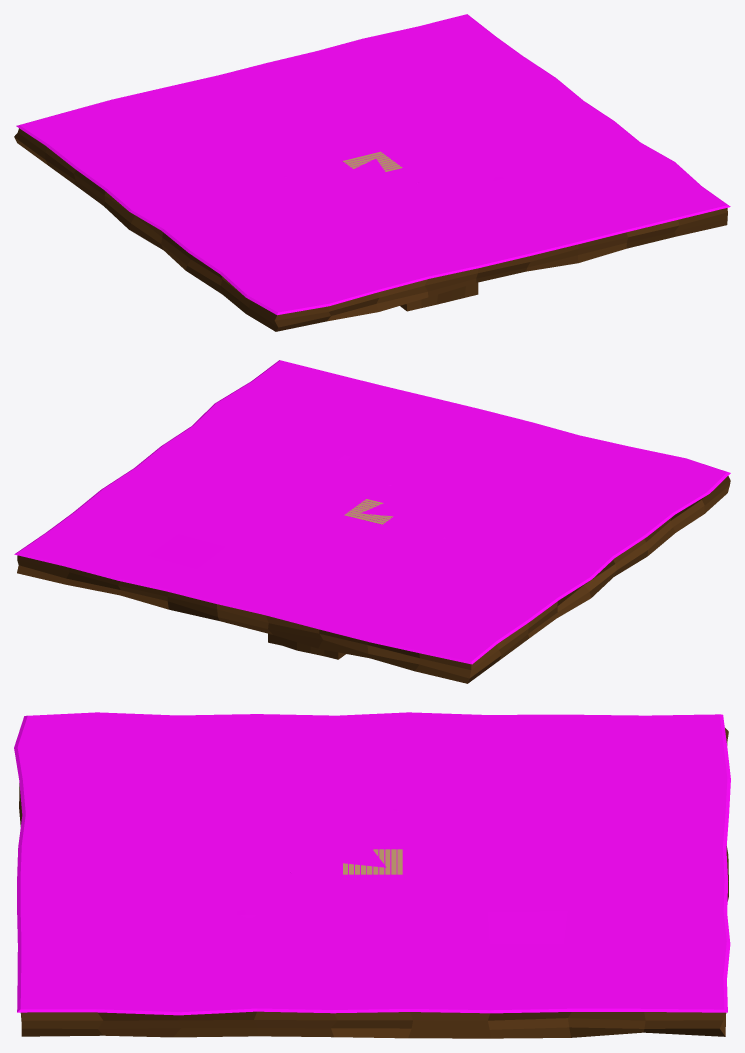
File: Platforms.fbx
3 renders of one model, top to bottom at view 1: azimuth 30°, elevation 25°; view 2: azimuth 150°, elevation 25°; view 3: azimuth 270°, elevation 25°, orthographic. The views are drawn at different scales.
Visible parts, largest first — view 1: Grass_Platform_XXL, Grass_Halfpipe, Wood_Palette; view 2: Grass_Platform_XXL, Grass_Halfpipe, Wood_Palette; view 3: Grass_Platform_XXL, Wood_Palette.
Boxes of the visible parts, <box> form: Grass_Platform_XXL: <box>14,14,730,331</box>; Grass_Halfpipe: <box>400,282,478,311</box>; Wood_Palette: <box>342,151,402,171</box>; Grass_Platform_XXL: <box>14,360,730,683</box>; Grass_Halfpipe: <box>268,633,345,659</box>; Wood_Palette: <box>344,499,393,524</box>; Grass_Platform_XXL: <box>14,712,730,1038</box>; Wood_Palette: <box>343,849,402,874</box>.
Bounding box in the file's own units: 36 × 6.52 × 36.
Materials: 1 (1 with a texture image).
